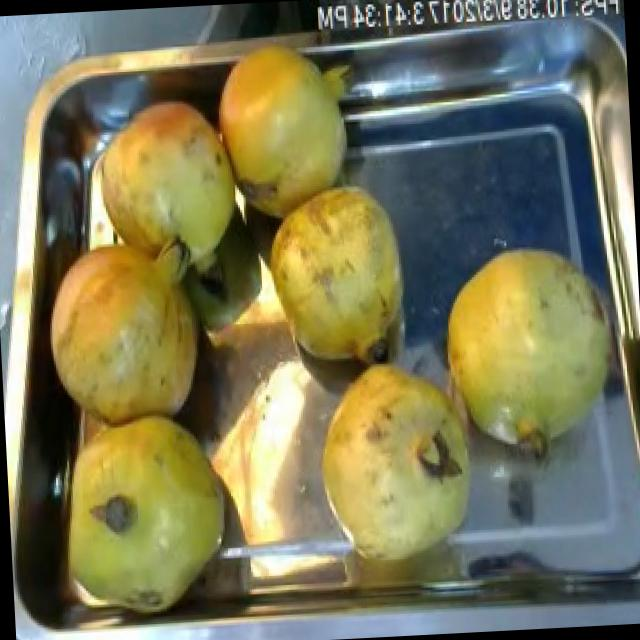fruit: (426, 227, 628, 470), (46, 397, 244, 632), (303, 332, 485, 579), (34, 208, 220, 442), (250, 166, 422, 388), (78, 86, 250, 292), (207, 28, 371, 234)
